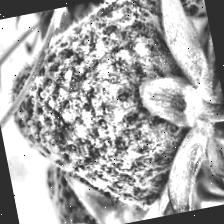Powdery Mildew Fruit: (0, 0, 224, 224), (187, 0, 224, 158), (98, 0, 207, 36)
